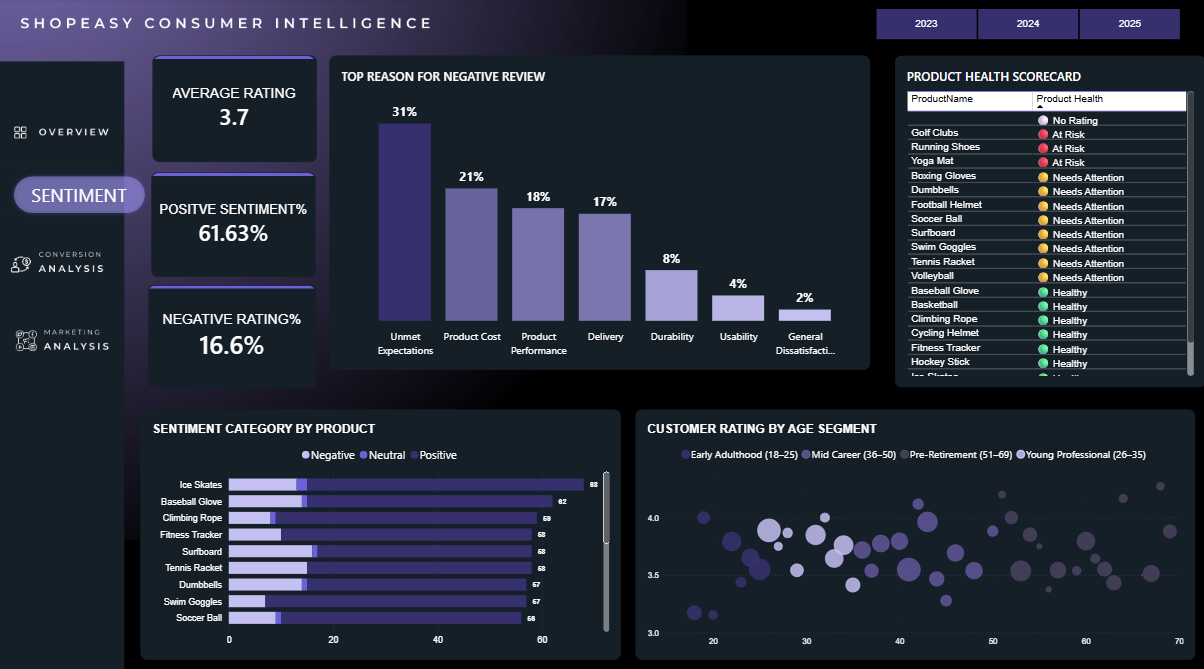

The dashboard page shown, as its layout file describes it:
{"tool":"powerbi","page":{"name":" Customer Sentiment","canvas":[1600,900],"ordinal":1},"visuals":[{"type":"cardVisual","fields":{"Data":["calculations.average rating"]},"box":[204,78.2,217.8,141.1],"z":0},{"type":"barChart","title":"SENTIMENT CATEGORY BY PRODUCT","fields":{"Category":["products.ProductName"],"Y":["CountNonNull(customer_reviews_sentiment.ReviewID)"],"Series":["customer_reviews_sentiment.SentimentCategory"]},"box":[188.3,546.7,636.7,331.7],"z":1000},{"type":"shape","box":[0,216.7,161.7,63.3],"z":2000},{"type":"clusteredColumnChart","title":"TOP REASON FOR NEGATIVE  REVIEW","fields":{"Category":["negative_reviews_issues.IssueCategory"],"Y":["Divide(CountNonNull(negative_reviews_issues.IssueCategory), ScopedEval(CountNonNull(negative_reviews_issues.IssueCategor"]},"box":[440,78.3,716.7,416.7],"z":3000},{"type":"scatterChart","title":"CUSTOMER RATING BY AGE SEGMENT","fields":{"Series":["customers.Age Segment"],"X":["customers.Age"],"Size":["CountNonNull(customer_reviews_sentiment.ReviewID)"],"Y":["Avg(customer_reviews_sentiment.Rating)"]},"box":[845,546.7,741.7,331.7],"z":4000},{"type":"tableEx","title":"PRODUCT HEALTH SCORECARD","fields":{"Values":["products.ProductName","calculations.Product Health"]},"box":[1188.3,78.3,411.7,440],"z":5000},{"type":"cardVisual","fields":{"Data":["calculations.% Positive Sentiment"]},"box":[203.3,231.7,218.3,138.3],"z":6000},{"type":"cardVisual","fields":{"Data":["negative_reviews_issues.neagtive review %"]},"box":[199.4,381.9,222.4,136.5],"z":7000},{"type":"shape","box":[0,216.7,215,90],"z":8000},{"type":"slicer","fields":{"Values":["Calendar.Date.Variation.Date Hierarchy.Year"]},"box":[1142.6,13.1,442.6,44.3],"z":9000},{"type":"pageNavigator","box":[0,306.7,183.3,205],"z":10000},{"type":"pageNavigator","box":[0,131.7,183.3,100],"z":11000}]}

Visuals, with their boxes in screenshot pixels (x1, y1, x2, y2), scaled from the page's 1600x900 canvas onto the 1204x669 screenshot:
cardVisual - calculations.average rating: 154, 58, 317, 163
"SENTIMENT CATEGORY BY PRODUCT" barChart: 142, 406, 621, 653
shape: 0, 161, 122, 208
"TOP REASON FOR NEGATIVE  REVIEW" clusteredColumnChart: 331, 58, 870, 368
"CUSTOMER RATING BY AGE SEGMENT" scatterChart: 636, 406, 1194, 653
"PRODUCT HEALTH SCORECARD" tableEx: 894, 58, 1203, 385
cardVisual - calculations.% Positive Sentiment: 153, 172, 317, 275
cardVisual - negative_reviews_issues.neagtive review %: 150, 284, 317, 385
shape: 0, 161, 162, 228
slicer - Calendar.Date.Variation.Date Hierarchy.Year: 860, 10, 1193, 43
pageNavigator: 0, 228, 138, 380
pageNavigator: 0, 98, 138, 172
